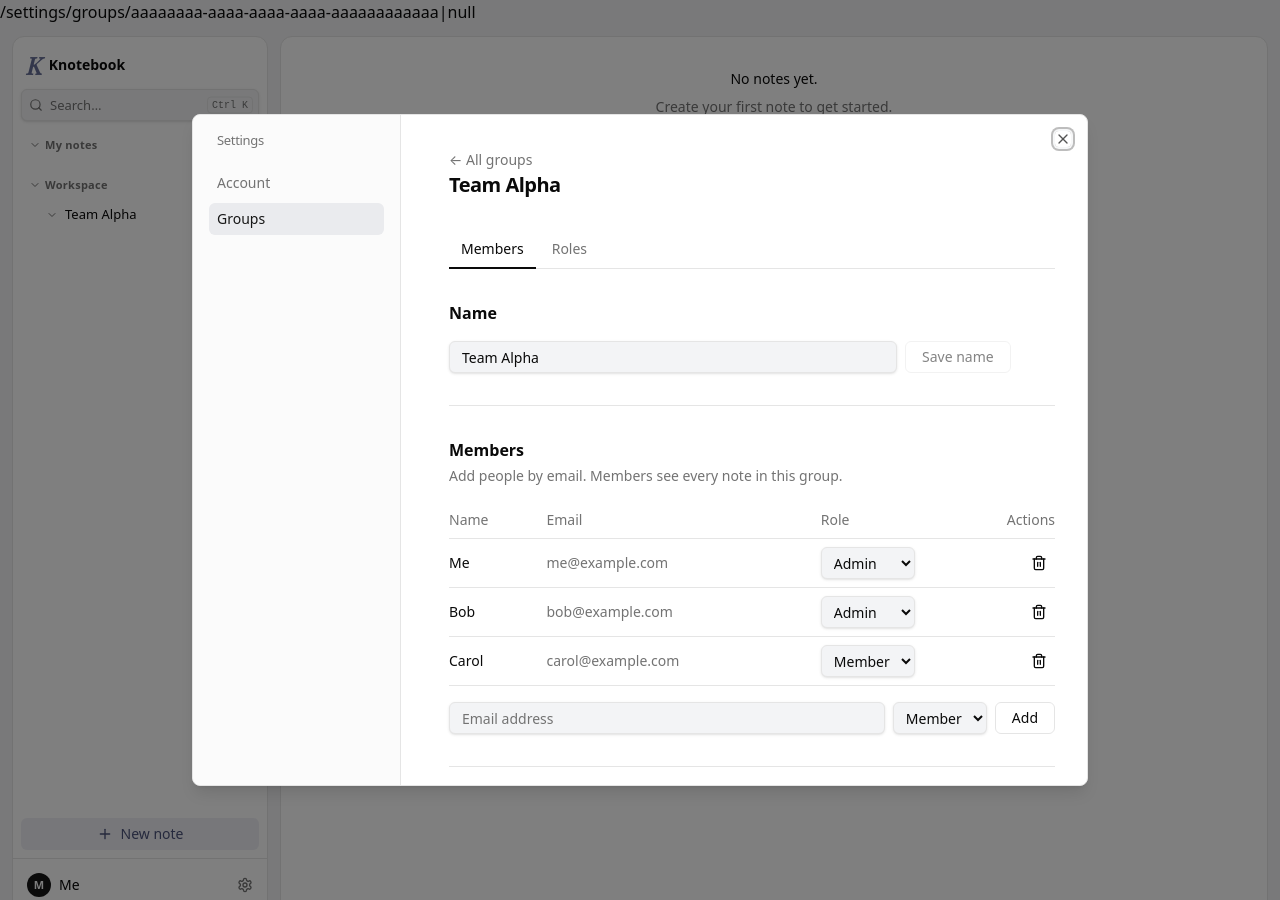
Test case: SettingsGroupDetailSection（/settings/groups/:id，spec §8.5） › 改角色：PATCH /members/:userId {roleId: 管理員角色 id}；移除：DELETE /members/:userId（無確認）
Select "Admin" in the dropdown named "Role for carol@example.com". click: (868, 661)
box: [821,645,915,677]
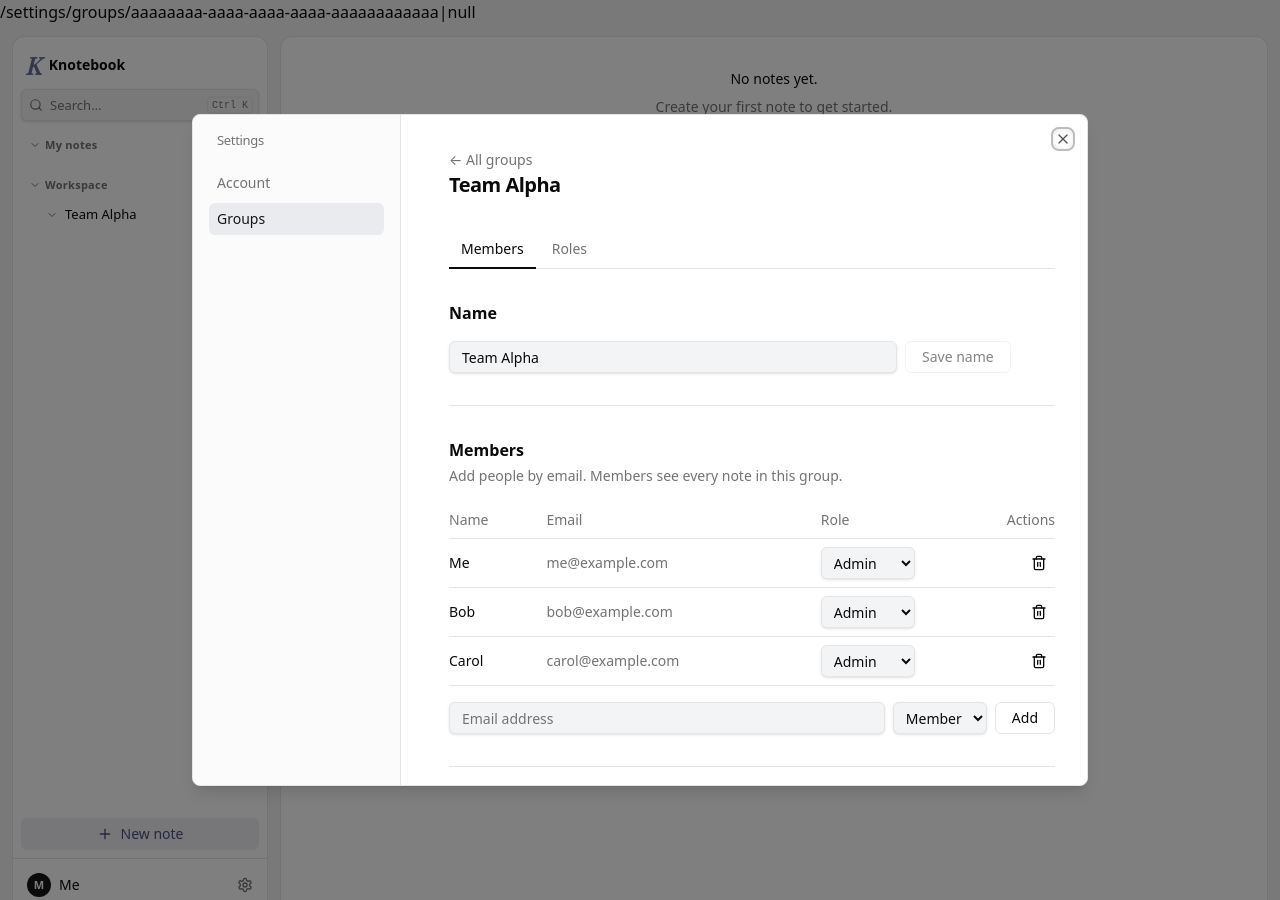
Note: 移除：無確認對話框，點了就直接 DELETE。
Click the button named "Remove bob@example.com". click: (1039, 612)
box: [1023,596,1055,628]
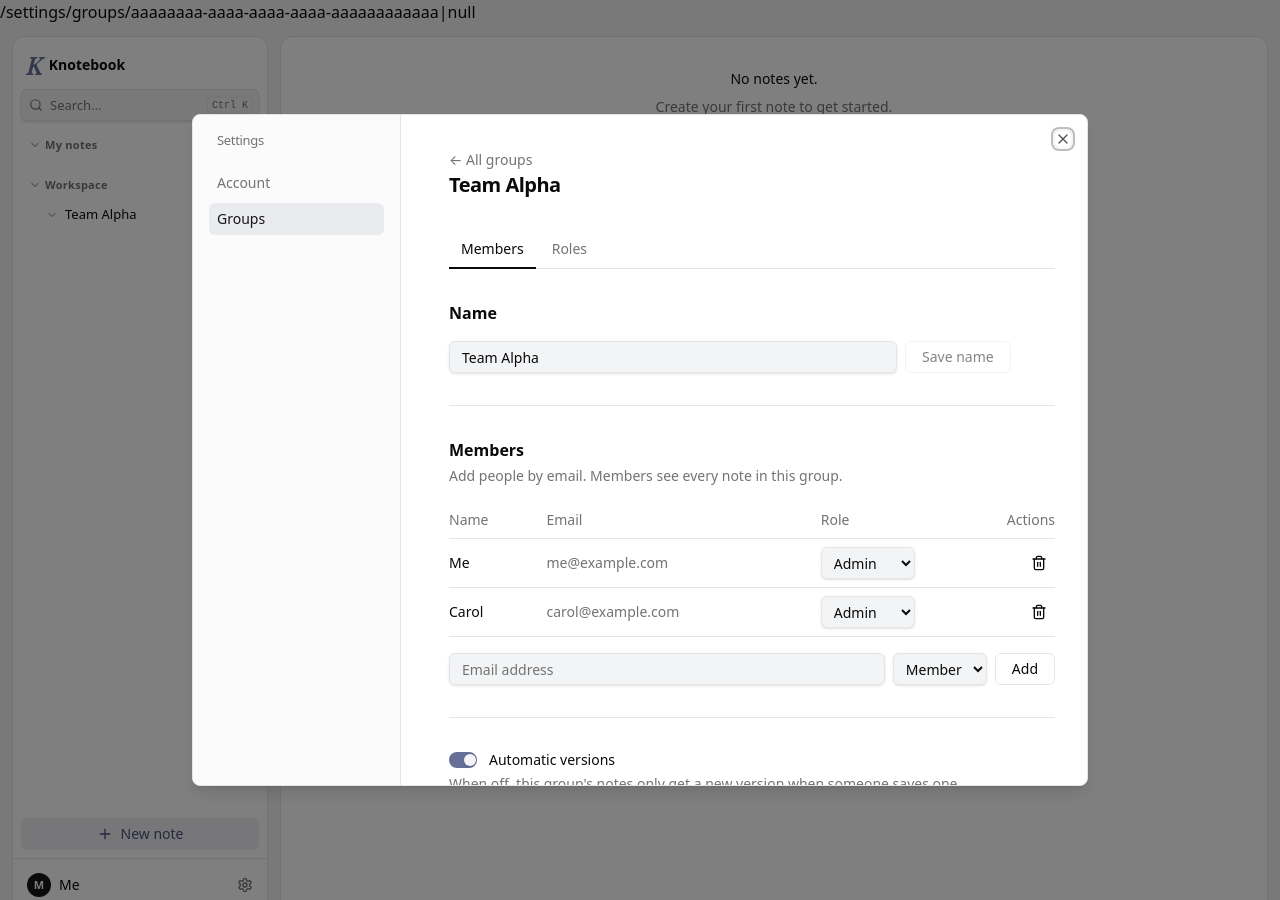
Result: the text "bob@example.com" is gone
